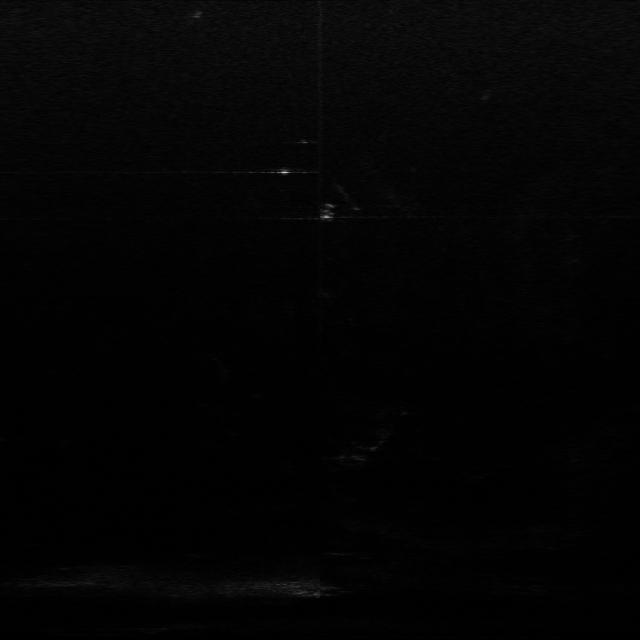rov: (317, 204, 339, 222)
